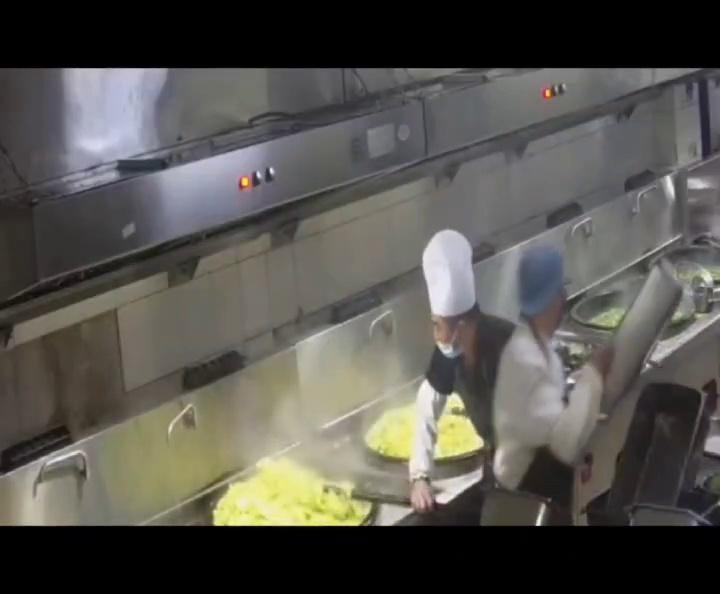mask: (428, 322, 462, 356)
